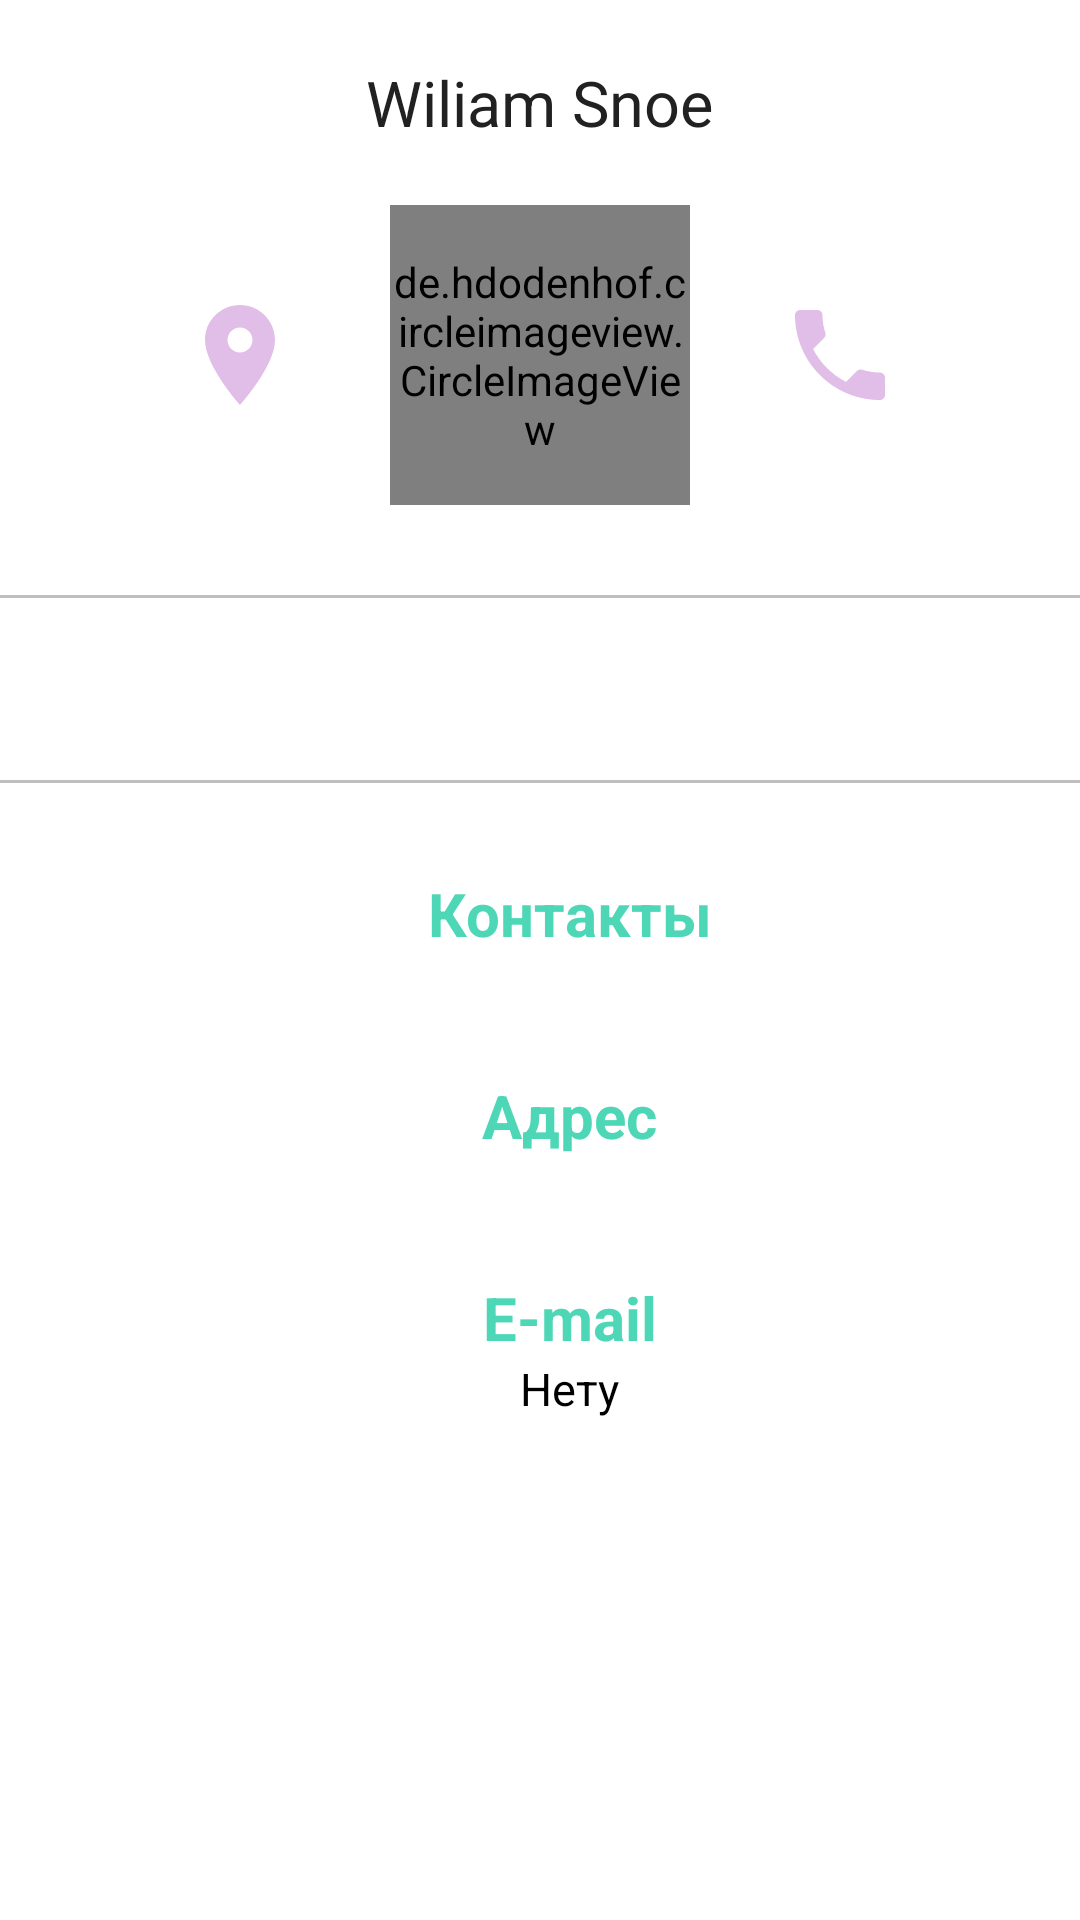

Named icons in this screenshot (1080×1920) and their centers, point (x, y):
location on: point (240, 355)
phone: point (840, 355)
